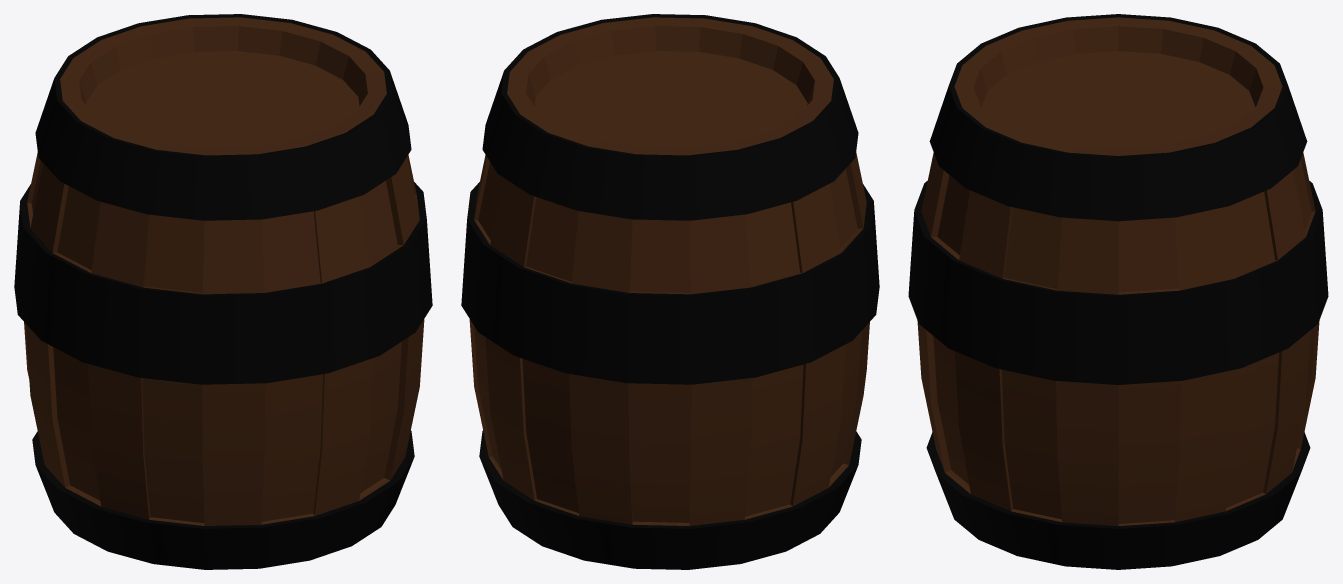
File: Barril.fbx
3 renders of one model, left to right at view 1: azimuth 30°, elevation 25°; view 2: azimuth 150°, elevation 25°; view 3: azimuth 270°, elevation 25°, orthographic.
Visible parts, largest first — view 1: pCylinder1; view 2: pCylinder1; view 3: pCylinder1.
Part boxes in pixels (x1=…): pCylinder1: x1=14, y1=14, x2=432, y2=569; pCylinder1: x1=461, y1=14, x2=879, y2=569; pCylinder1: x1=908, y1=14, x2=1328, y2=569.
Size of the model in its own units: 5.47 by 5.91 by 5.47.
